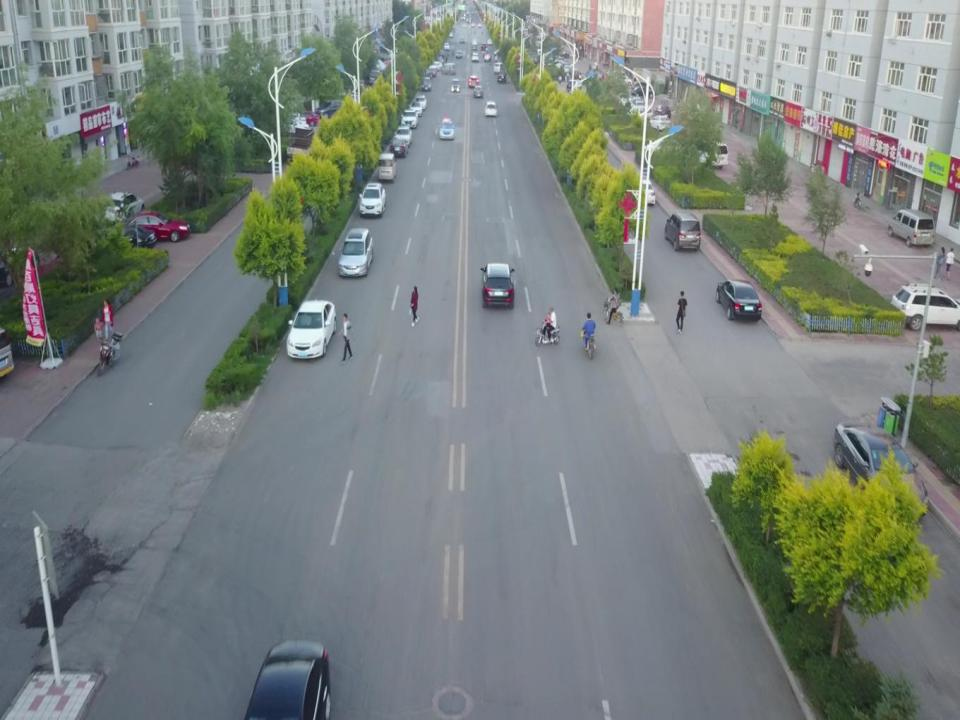car: (837, 421, 926, 524), (238, 643, 332, 720), (889, 282, 960, 334), (286, 298, 335, 358), (118, 214, 190, 244), (715, 280, 761, 323), (338, 228, 374, 278), (0, 246, 40, 284), (94, 228, 155, 252), (482, 264, 515, 308), (104, 192, 145, 225), (359, 182, 386, 217), (630, 178, 655, 206), (400, 108, 420, 128), (650, 116, 672, 132), (390, 138, 408, 156), (395, 126, 412, 145), (439, 118, 453, 140), (632, 82, 653, 94), (632, 87, 654, 97), (409, 100, 423, 115), (484, 100, 497, 116), (414, 96, 426, 112), (654, 105, 671, 116), (450, 79, 460, 91), (474, 86, 484, 98), (469, 76, 478, 88), (421, 78, 430, 90), (429, 62, 442, 70), (427, 68, 436, 78), (498, 71, 506, 82)
van: (888, 209, 935, 248), (665, 211, 702, 251), (692, 138, 728, 172), (378, 153, 396, 181), (628, 105, 654, 122), (440, 63, 456, 74), (494, 62, 504, 73)
